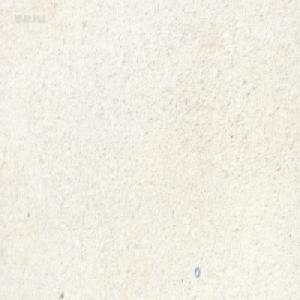Washer: (194, 266, 200, 278)
